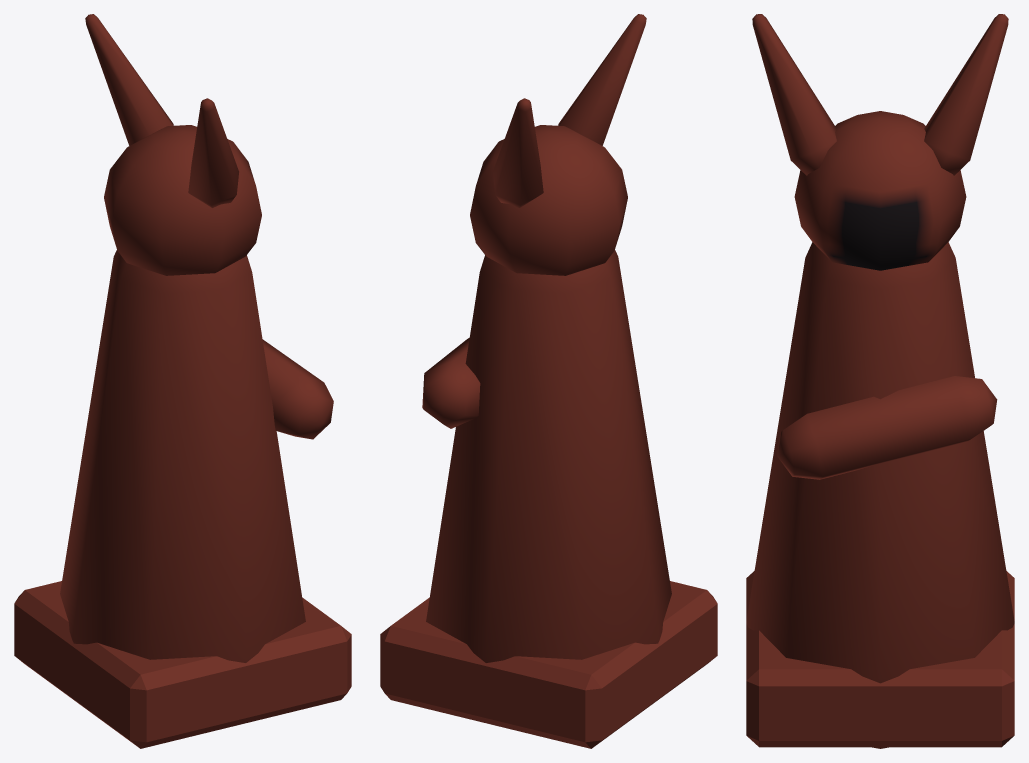
Rendered from prop_statueh_bc63.glb.
The picture shows the model from 3 angles, left to right: view 1: azimuth 30°, elevation 25°; view 2: azimuth 150°, elevation 25°; view 3: azimuth 270°, elevation 25°; orthographic projection. The views are drawn at different scales.
Parts seen in each view (by area): view 1: prop_statueh_bc63; view 2: prop_statueh_bc63; view 3: prop_statueh_bc63.
Part boxes in pixels (left/top/right/bottom): prop_statueh_bc63: left=14, top=14, right=351, bottom=748; prop_statueh_bc63: left=380, top=14, right=717, bottom=748; prop_statueh_bc63: left=746, top=14, right=1014, bottom=748.
Size of the model in its own units: 0.4425 by 1.29 by 0.442.
1 material, 1 textured.
